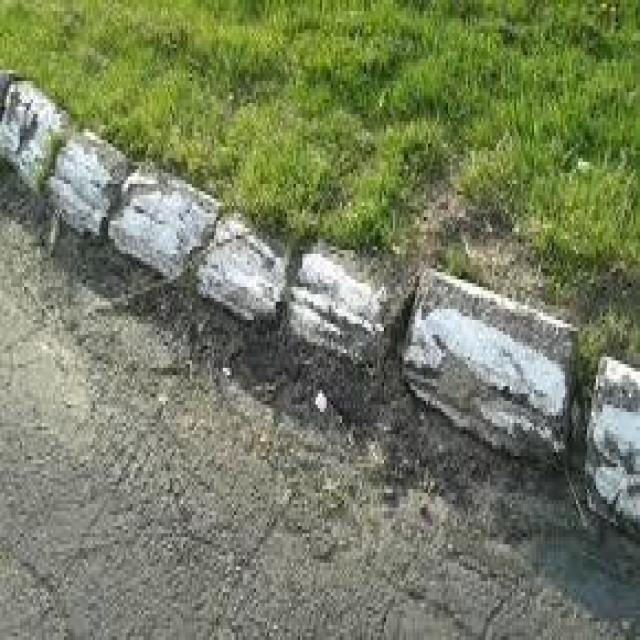curb: (405, 261, 576, 454), (278, 238, 405, 390), (103, 163, 230, 294), (189, 208, 302, 326), (44, 122, 135, 243), (0, 78, 76, 211), (83, 122, 132, 157)
